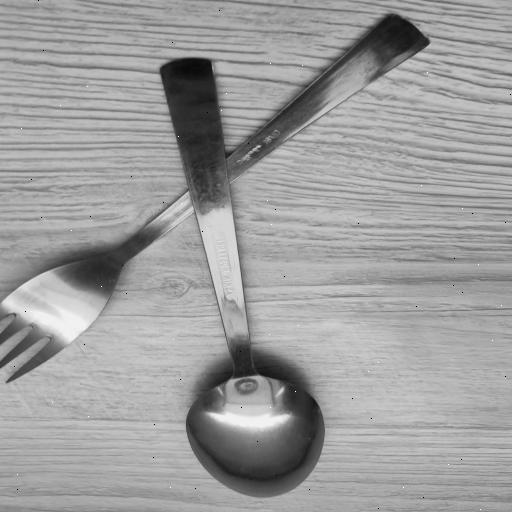fork: (0, 16, 438, 386)
spoon: (159, 56, 322, 500)
